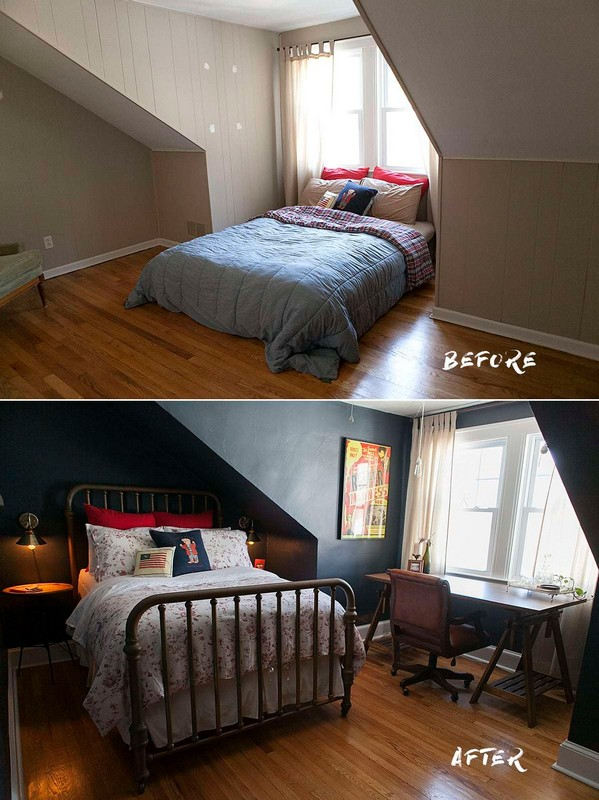bed: (62, 475, 366, 767), (135, 159, 438, 381)
chair: (384, 558, 497, 706)
lamp: (19, 512, 58, 599)
table: (410, 567, 586, 726)
